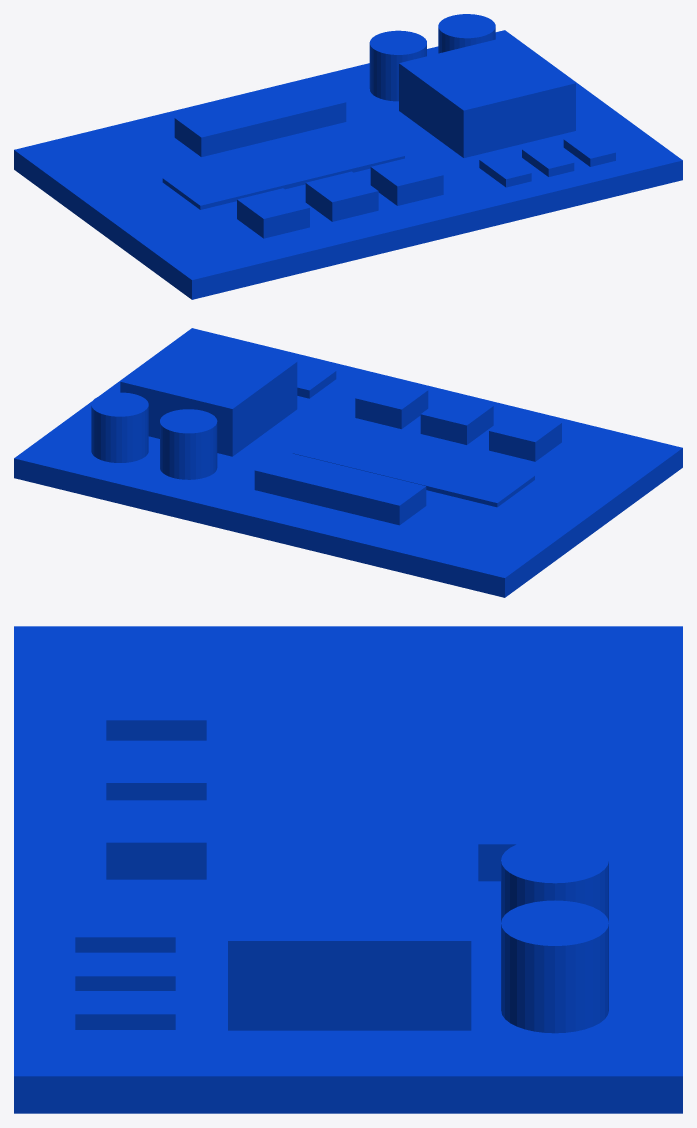
The picture shows the model from 3 angles, top to bottom: view 1: azimuth 30°, elevation 25°; view 2: azimuth 150°, elevation 25°; view 3: azimuth 270°, elevation 25°; orthographic projection. The views are drawn at different scales.
Visible parts, largest first — view 1: Cube, Cube.001, Cube.009, Cube.005, Cylinder, Cube.003, Cube.002, Cube.004, Cylinder.001, Cube.006, Cube.007, Cube.008; view 2: Cube, Cube.001, Cube.009, Cube.005, Cylinder, Cylinder.001, Cube.003, Cube.002, Cube.004, Cube.006; view 3: Cube, Cube.001, Cube.009, Cube.005, Cylinder.001, Cube.002, Cylinder, Cube.004, Cube.003, Cube.006, Cube.007, Cube.008.
Boxes of the visible parts, bbox=[...] form: Cube: bbox=[14, 30, 682, 299]; Cube.001: bbox=[399, 36, 575, 157]; Cube.009: bbox=[162, 128, 404, 209]; Cube.005: bbox=[174, 82, 346, 157]; Cylinder: bbox=[369, 30, 426, 101]; Cube.003: bbox=[305, 171, 378, 221]; Cube.002: bbox=[370, 155, 443, 205]; Cube.004: bbox=[237, 188, 309, 238]; Cylinder.001: bbox=[438, 14, 495, 53]; Cube.006: bbox=[479, 153, 531, 187]; Cube.007: bbox=[522, 143, 574, 176]; Cube.008: bbox=[563, 133, 615, 166]; Cube: bbox=[14, 328, 682, 597]; Cube.001: bbox=[120, 334, 297, 456]; Cube.009: bbox=[292, 425, 534, 507]; Cube.005: bbox=[254, 451, 426, 525]; Cylinder: bbox=[160, 409, 217, 479]; Cylinder.001: bbox=[91, 392, 148, 462]; Cube.003: bbox=[420, 394, 493, 444]; Cube.002: bbox=[355, 379, 428, 429]; Cube.004: bbox=[489, 411, 561, 461]; Cube.006: bbox=[297, 364, 336, 398]; Cube: bbox=[14, 626, 682, 1113]; Cube.001: bbox=[228, 838, 471, 1030]; Cube.009: bbox=[276, 690, 417, 837]; Cube.005: bbox=[478, 711, 578, 881]; Cylinder.001: bbox=[501, 900, 608, 1033]; Cube.002: bbox=[106, 800, 206, 879]; Cylinder: bbox=[501, 837, 608, 922]; Cube.004: bbox=[106, 677, 206, 740]; Cube.003: bbox=[106, 740, 206, 800]; Cube.006: bbox=[75, 913, 175, 952]; Cube.007: bbox=[75, 952, 175, 990]; Cube.008: bbox=[75, 991, 175, 1029].
Size of the model in its own units: 6.24 by 0.819 by 3.92.
